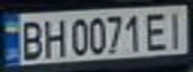0: (66, 15, 90, 56), (87, 13, 109, 55)
1: (121, 11, 145, 52)
7: (106, 11, 127, 54)
B: (15, 17, 45, 61)
E: (142, 8, 172, 52)
H: (39, 16, 66, 58)
I: (163, 7, 190, 50)
